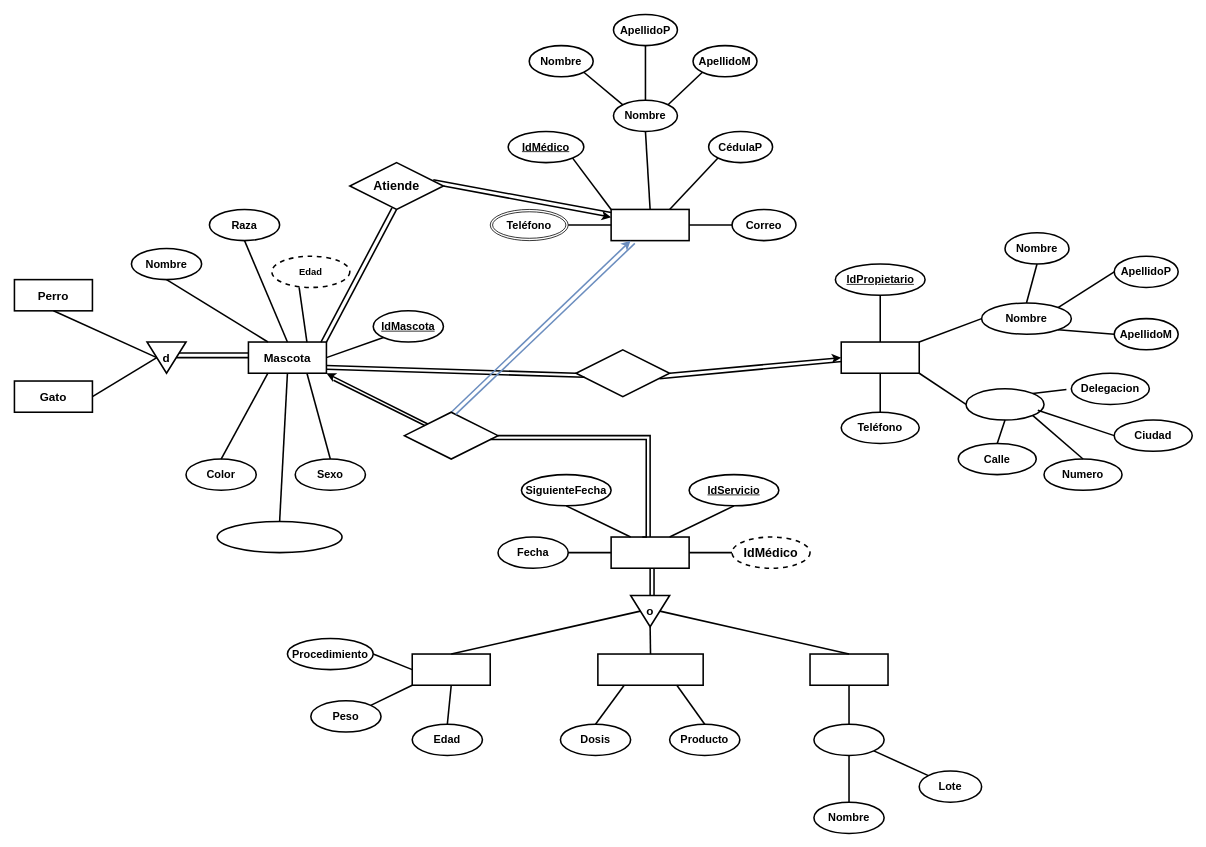
The diagram is 1206 pixels wide and 847 high, and some of its shapes have lost their labels. Each missing label, with the centre of its shape:
Consulta: point 451,669
Desparacitación: point 650,669
Direccion: point 1004,404
FechaNacimiento: point 279,536
Médico: point 650,224
Propietario: point 880,357
Realizar: point 450,435
Servicios: point 650,552
Tener: point 622,373
Vacuna: point 849,739
Vacunación: point 848,669
